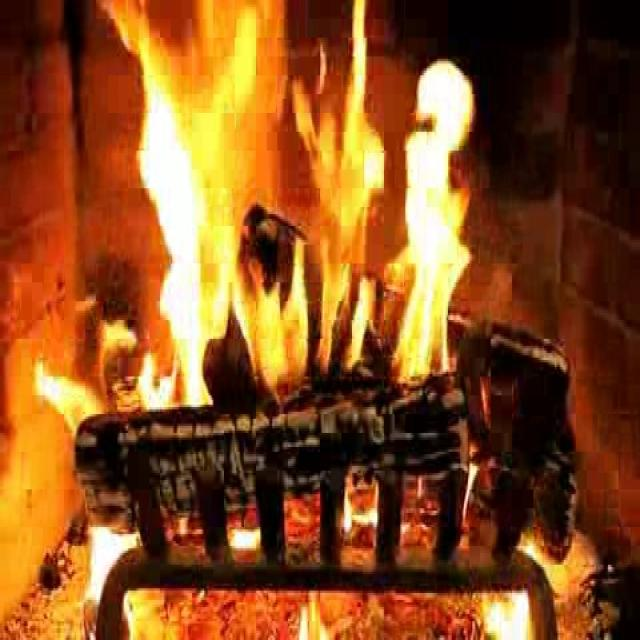fire: (105, 0, 502, 447)
